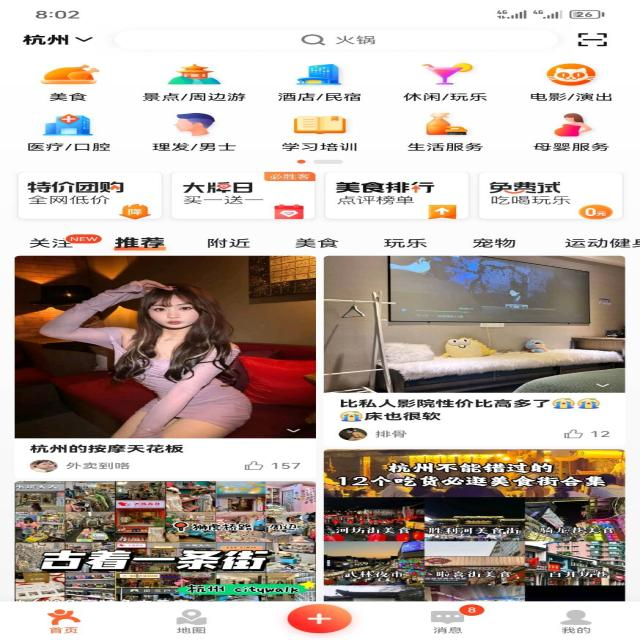Icon: (289, 604, 352, 634), (41, 65, 99, 84), (547, 64, 597, 85), (168, 65, 220, 85), (44, 114, 91, 136), (426, 112, 467, 135), (294, 116, 346, 134), (297, 64, 341, 85), (176, 112, 214, 136), (555, 114, 591, 136), (426, 65, 462, 85), (47, 609, 80, 625), (176, 609, 206, 625), (561, 610, 591, 625), (433, 610, 465, 624), (577, 32, 608, 46)
SearchBar: (113, 29, 558, 51)
